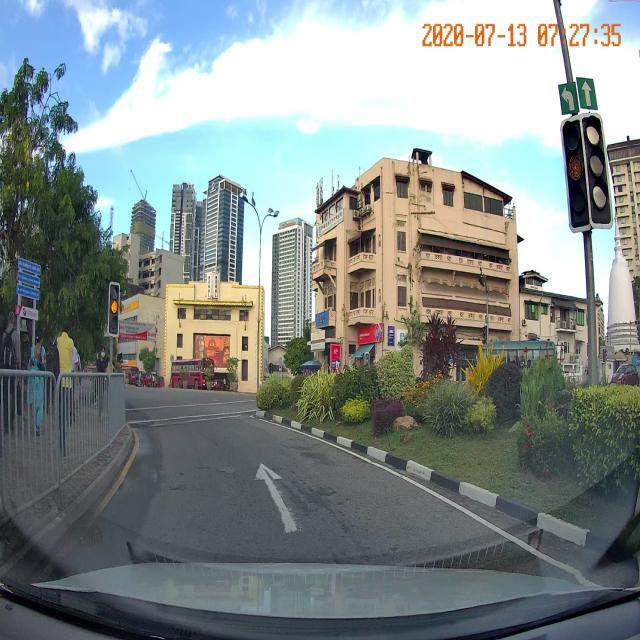Strelka vpered: (253, 459, 306, 537)
